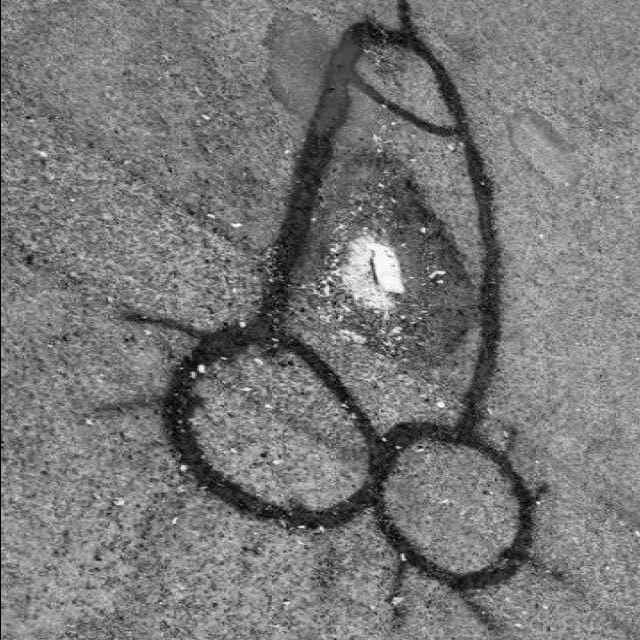jalan retak: (106, 459, 554, 640), (9, 150, 281, 330)
lubang: (310, 150, 492, 392)
